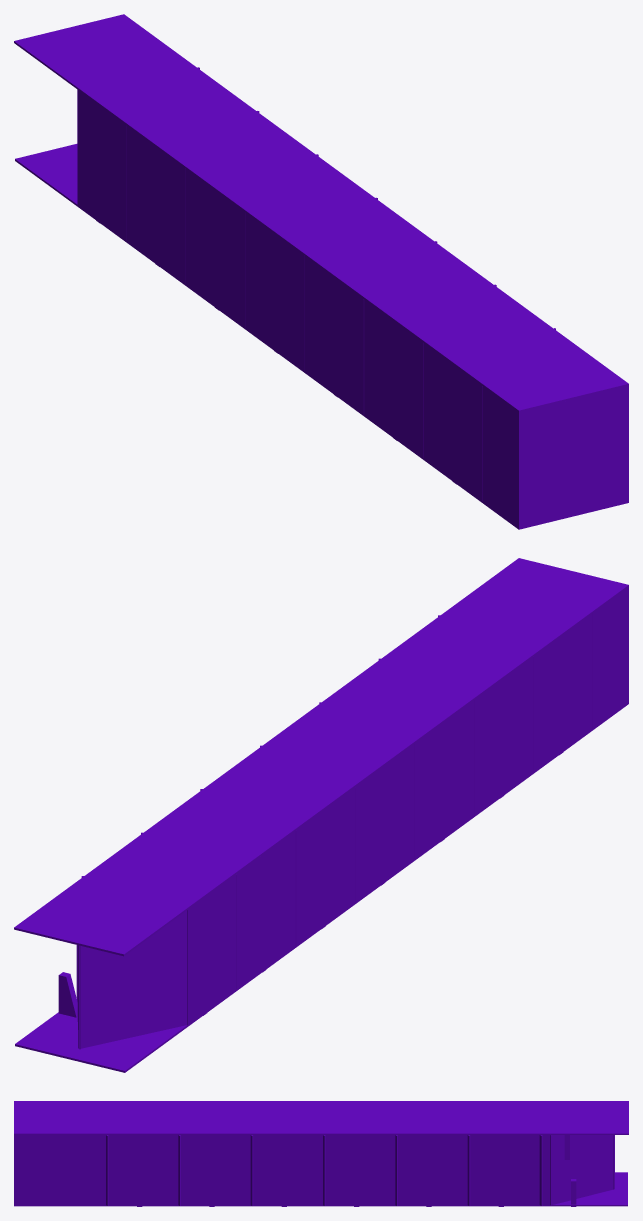
The model's file is expbfa_bfa2.gltf.
3 views of the same model, one above another, from view 1: azimuth 30°, elevation 25°; view 2: azimuth 150°, elevation 25°; view 3: azimuth 270°, elevation 25° (orthographic). The views are drawn at different scales.
Parts seen in each view (by area): view 1: Cube.033; view 2: Cube.033; view 3: Cube.033.
Boxes of the visible parts, <box> form: Cube.033: <box>14,14,628,529</box>; Cube.033: <box>14,558,628,1072</box>; Cube.033: <box>14,1101,628,1206</box>.
Bounding box in the file's own units: 30.83 × 31.18 × 236.
